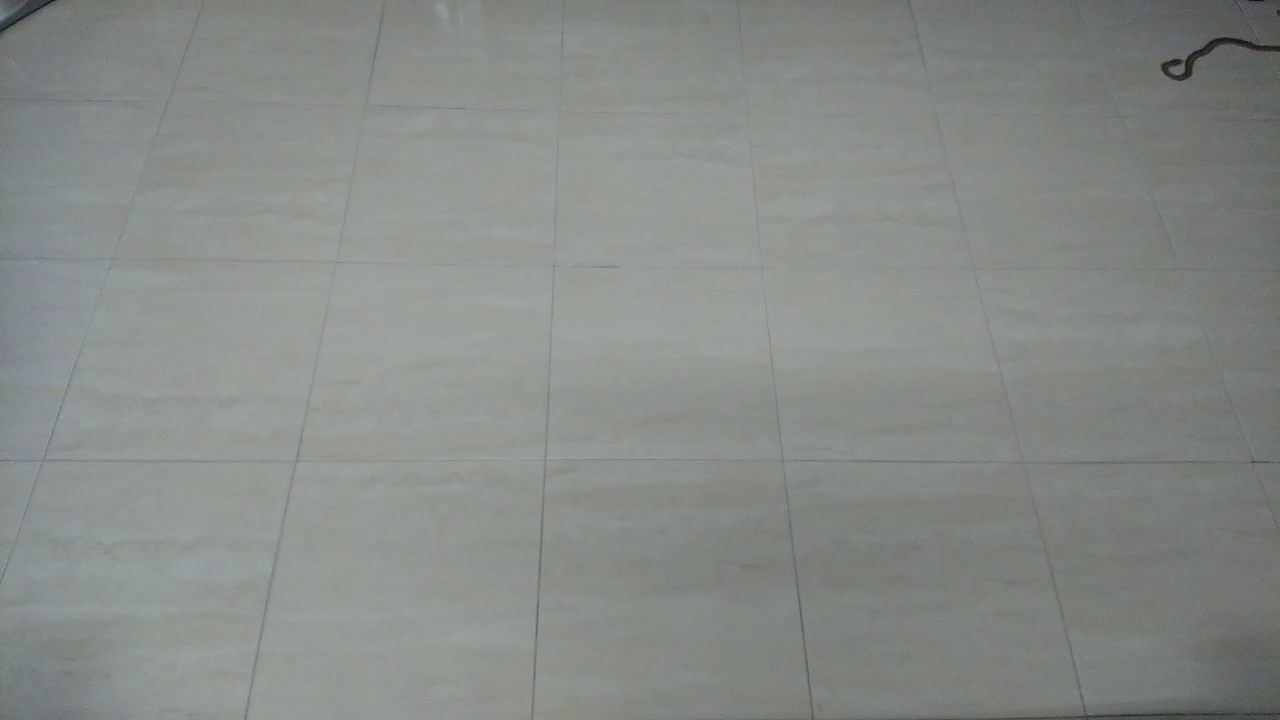snake: (1147, 26, 1280, 89)
